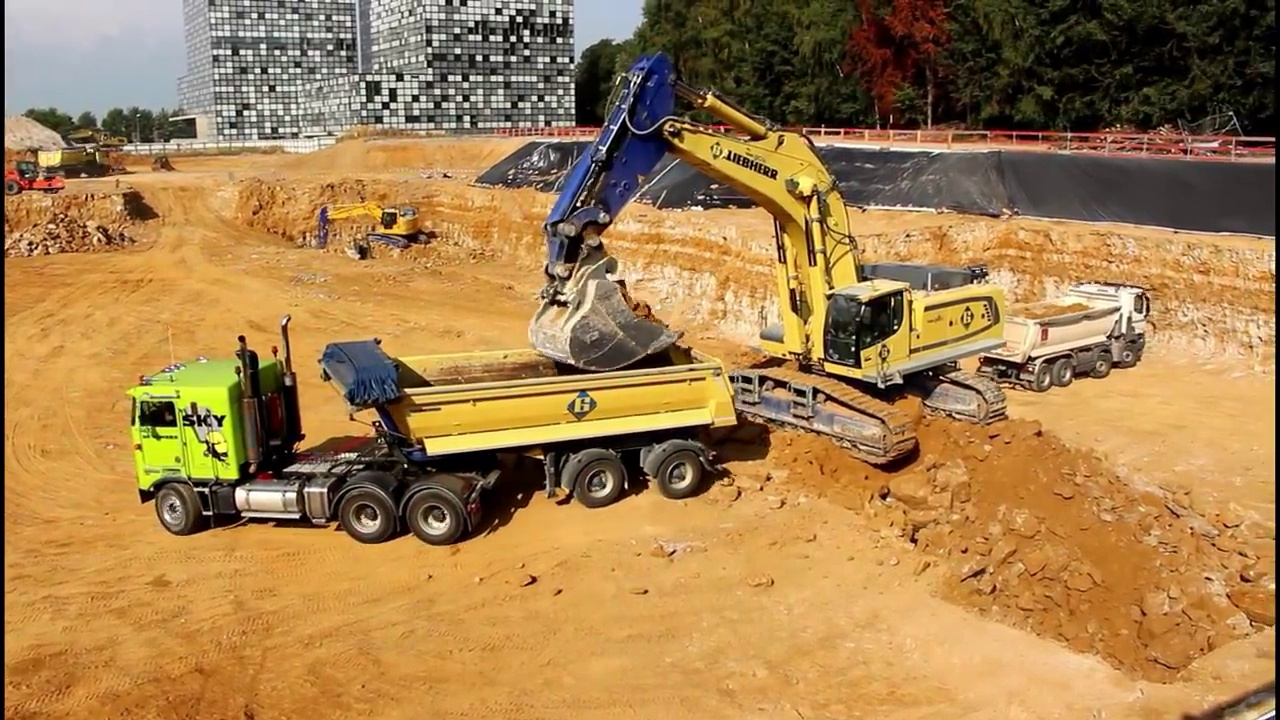compactor: (6, 161, 64, 202)
excavator: (523, 51, 1015, 474), (306, 190, 440, 262), (70, 124, 129, 157)
truck: (114, 307, 749, 551), (976, 274, 1159, 396), (18, 144, 98, 179)
